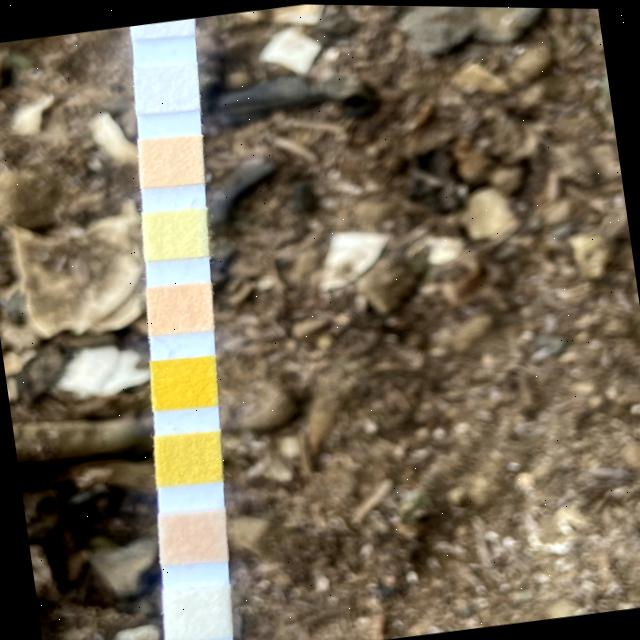Bilirubin: (164, 583, 230, 640)
Blood: (153, 354, 217, 411)
Ketone: (158, 507, 226, 567)
Leukocytes: (134, 17, 191, 38)
Nitrite: (135, 62, 196, 113)
Protein: (144, 208, 206, 259)
SpGravity: (156, 430, 221, 485)
Urobilinogen: (137, 133, 201, 188)
pH: (147, 281, 213, 334)
